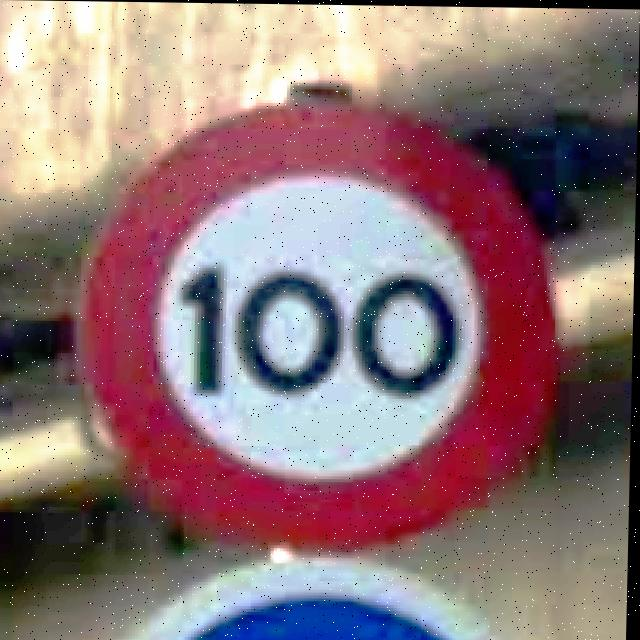max100: (68, 85, 567, 553)
